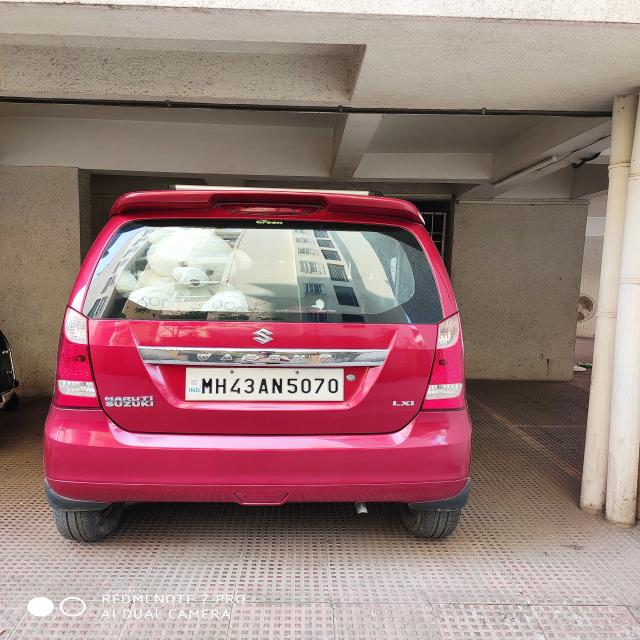Number-Plate: (188, 368, 344, 402)
